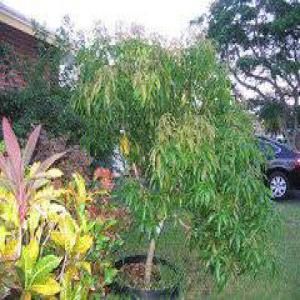Tree: (65, 28, 280, 292)
